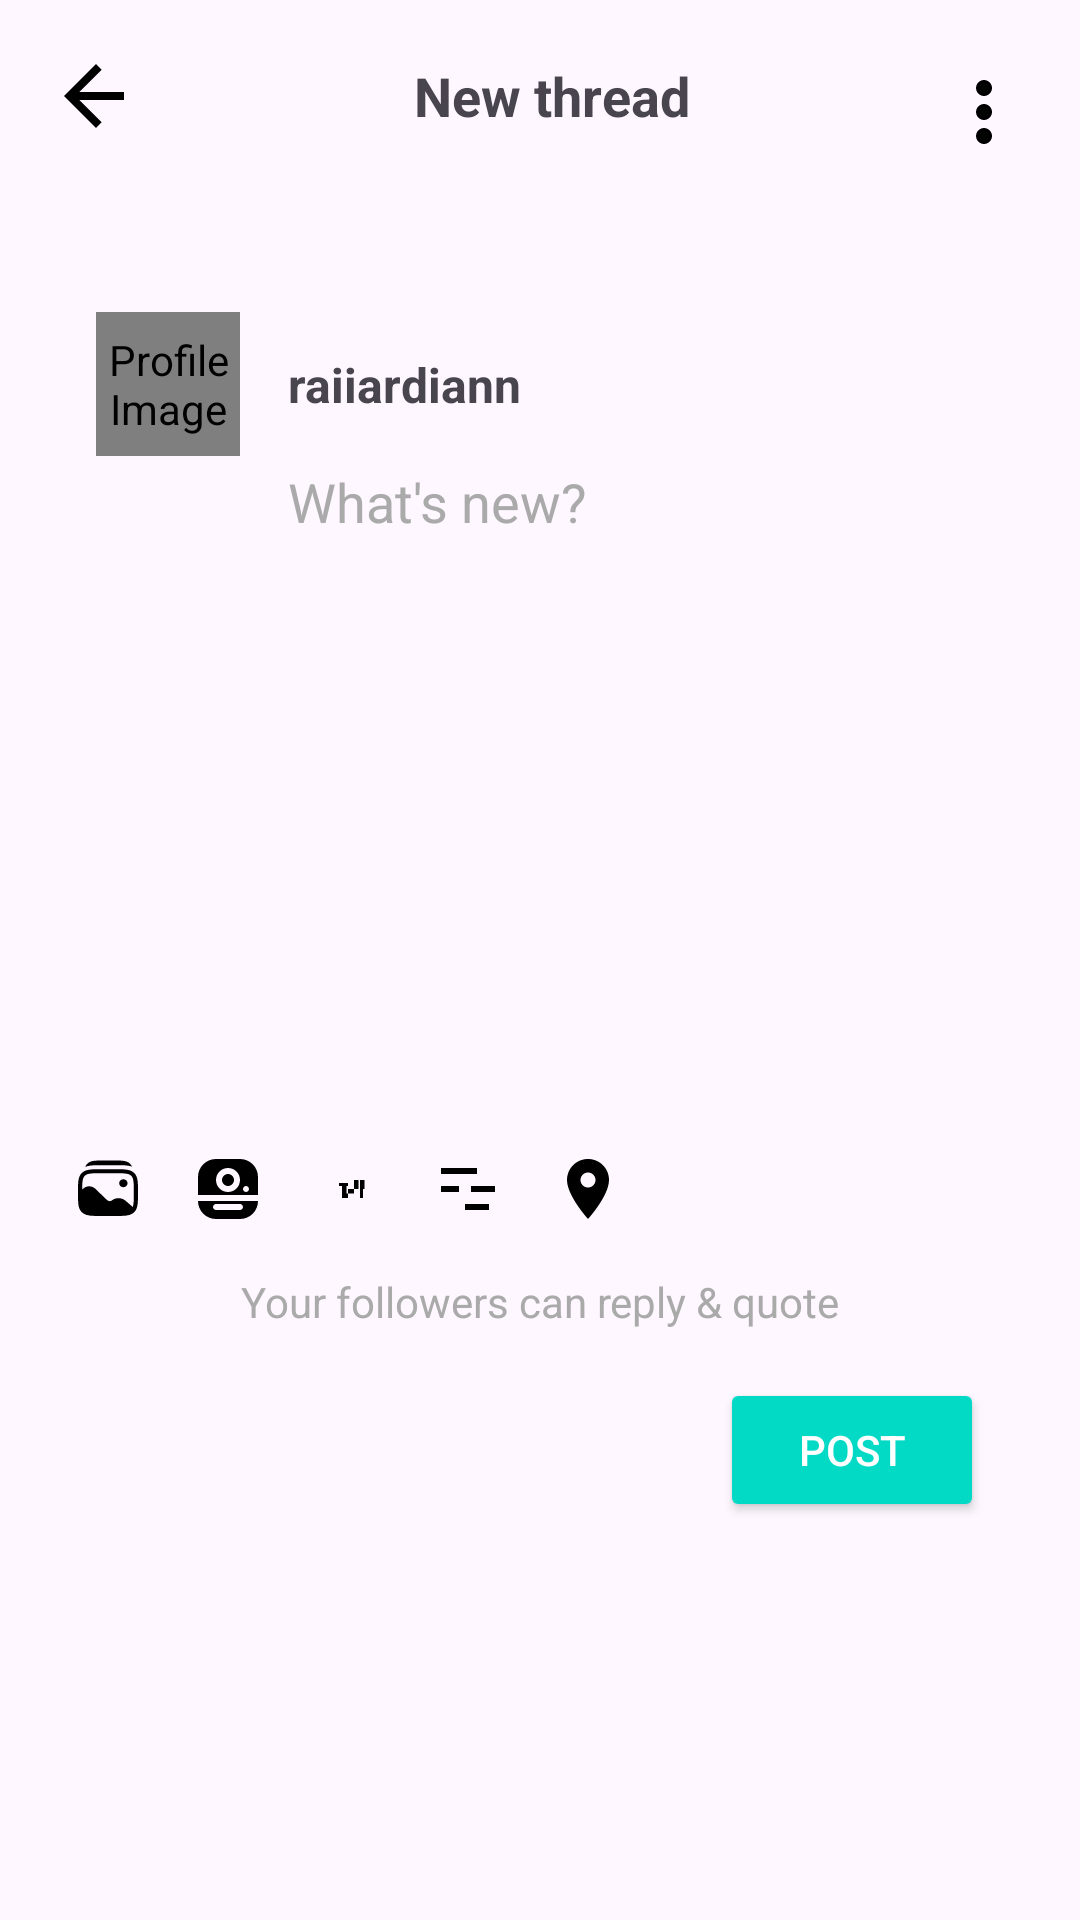

Icons on this 1080w x 1920h Android screen, each with its box as rect(x1, y1, x2, y2):
Add Camera: rect(198, 1159, 258, 1219)
Add Image: rect(78, 1160, 138, 1216)
Add Location: rect(567, 1159, 609, 1219)
Back: rect(64, 64, 124, 128)
More Option: rect(976, 80, 992, 144)
